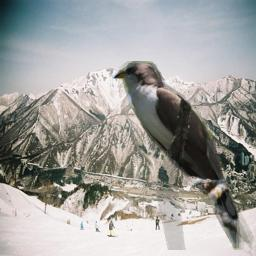Cuckoo: (112, 61, 256, 250)
